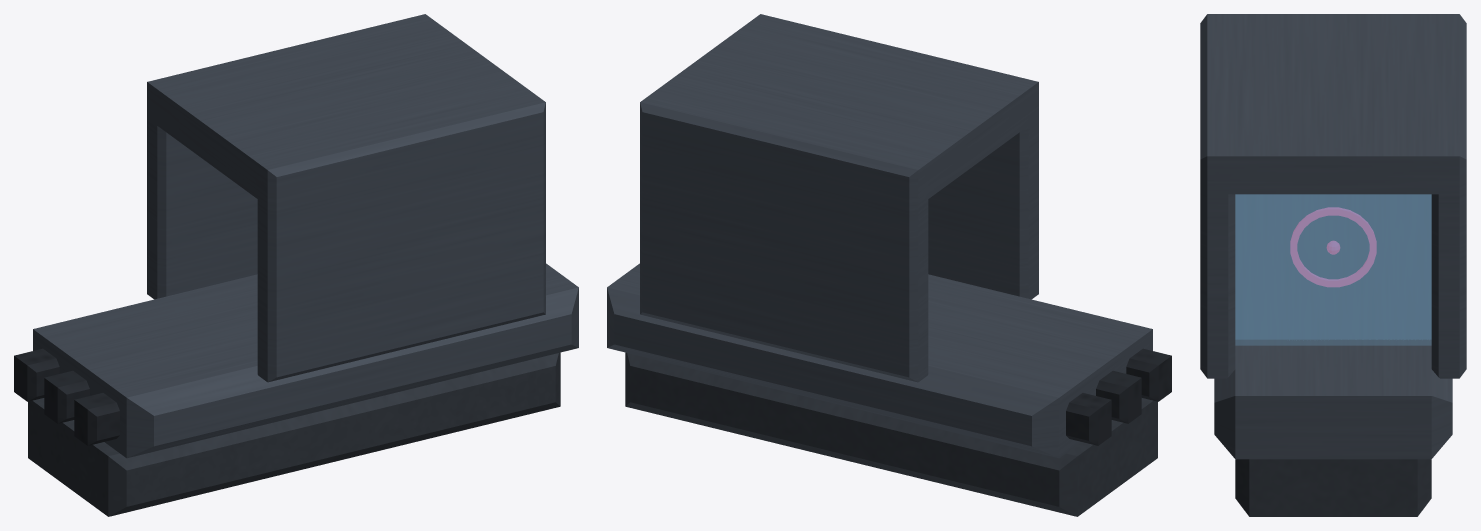
The model's file is sight_holo_v2.glb.
3 views of the same model, side by side, from view 1: azimuth 30°, elevation 25°; view 2: azimuth 150°, elevation 25°; view 3: azimuth 270°, elevation 25° (orthographic). The views are drawn at different scales.
Visible parts, largest first — view 1: sight_holo_mesh; view 2: sight_holo_mesh; view 3: sight_holo_mesh.
Boxes of the visible parts, x1=… form: sight_holo_mesh: x1=14, y1=14, x2=578, y2=516; sight_holo_mesh: x1=607, y1=14, x2=1171, y2=516; sight_holo_mesh: x1=1200, y1=14, x2=1466, y2=516.
Bounding box in the file's own units: 0.083 × 0.054 × 0.038.
5 materials, 3 textured.
